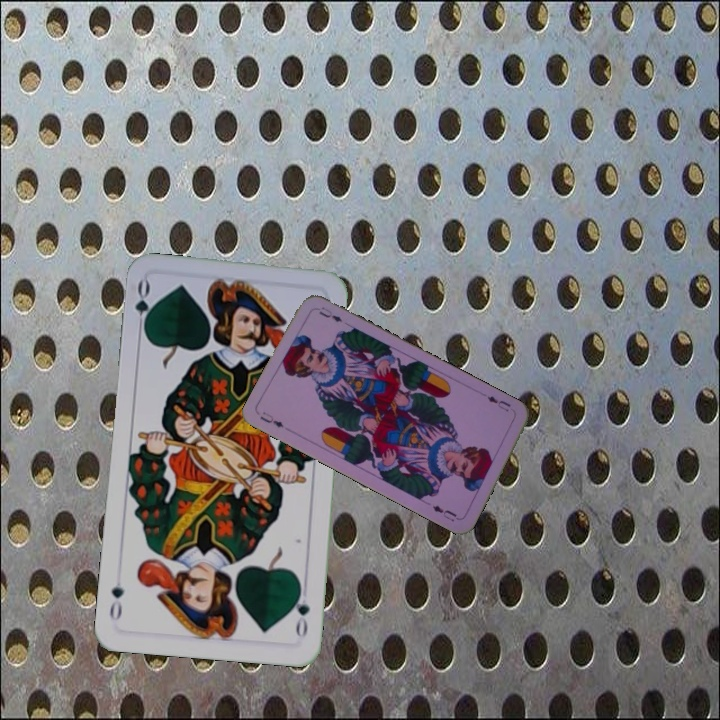EU: (483, 392, 513, 414), (256, 408, 286, 430)
GO: (131, 277, 155, 337), (289, 581, 312, 640)
